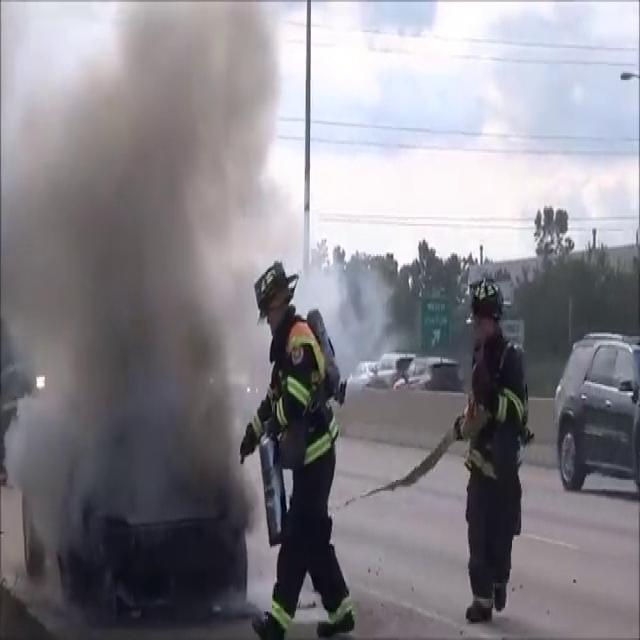Smoke: (1, 0, 333, 601)
